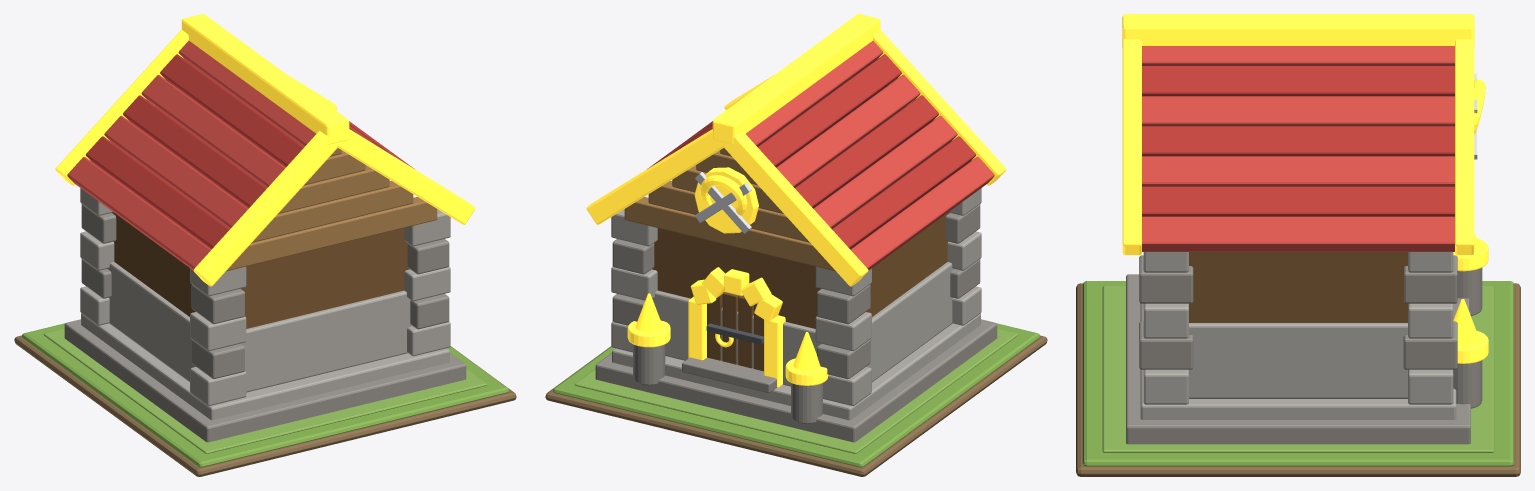
File: hero_hall_lv3.glb
3 renders of one model, left to right at view 1: azimuth 30°, elevation 25°; view 2: azimuth 150°, elevation 25°; view 3: azimuth 270°, elevation 25°, orthographic. The views are drawn at different scales.
Parts seen in each view (by area): view 1: HeroStoneWainscot, HeroHallCore, HeroPlinth1, Base_Grass, HeroPlinth2, RidgeBeam, Base_Inner, Base_Dirt, Bargeboard_-1_-1, Gable_-1_0, RoofSlope_-1_6, RoofSlope_-1_4 (+24 smaller); view 2: HeroHallCore, HeroPlinth1, HeroStoneWainscot, Base_Grass, RidgeBeam, Base_Inner, Base_Dirt, Bargeboard_1_-1, HeroPlinth2, RoofSlope_-1_6, RoofSlope_-1_4, RoofSlope_-1_3 (+43 smaller); view 3: HeroStoneWainscot, HeroHallCore, Base_Grass, RoofSlope_1_6, RidgeBeam, HeroPlinth1, Base_Inner, RoofSlope_1_1, RoofSlope_1_2, RoofSlope_1_3, RoofSlope_1_4, RoofSlope_1_5 (+20 smaller).
Boxes of the visible parts, <box> form: HeroStoneWainscot: <box>107,262,412,392</box>; HeroHallCore: <box>112,212,409,328</box>; HeroPlinth1: <box>64,319,466,442</box>; Base_Grass: <box>22,323,508,467</box>; HeroPlinth2: <box>81,313,449,420</box>; RidgeBeam: <box>181,14,349,144</box>; Base_Inner: <box>43,328,487,453</box>; Base_Dirt: <box>14,335,516,476</box>; Bargeboard_-1_-1: <box>193,131,341,286</box>; Gable_-1_0: <box>226,197,437,271</box>; RoofSlope_-1_6: <box>67,157,211,270</box>; RoofSlope_-1_4: <box>104,115,248,228</box>; HeroHallCore: <box>652,212,949,328</box>; HeroPlinth1: <box>595,319,997,442</box>; HeroStoneWainscot: <box>652,262,954,386</box>; Base_Grass: <box>553,323,1039,467</box>; RidgeBeam: <box>712,14,880,144</box>; Base_Inner: <box>574,328,1018,453</box>; Base_Dirt: <box>545,335,1047,476</box>; Bargeboard_1_-1: <box>721,131,868,286</box>; HeroPlinth2: <box>612,313,980,420</box>; RoofSlope_-1_6: <box>850,157,994,270</box>; RoofSlope_-1_4: <box>813,115,957,228</box>; RoofSlope_-1_3: <box>795,95,938,208</box>; HeroStoneWainscot: <box>1189,323,1407,398</box>; HeroHallCore: <box>1189,252,1407,322</box>; Base_Grass: <box>1082,281,1514,466</box>; RoofSlope_1_6: <box>1142,216,1454,251</box>; RidgeBeam: <box>1122,14,1474,47</box>; HeroPlinth1: <box>1126,274,1470,444</box>; Base_Inner: <box>1102,286,1494,452</box>; RoofSlope_1_1: <box>1142,66,1454,96</box>; RoofSlope_1_2: <box>1142,96,1454,126</box>; RoofSlope_1_3: <box>1142,126,1454,156</box>; RoofSlope_1_4: <box>1142,156,1454,186</box>; RoofSlope_1_5: <box>1142,186,1454,216</box>.
Bounding box in the file's own units: 2.76 × 2.5 × 2.76.
